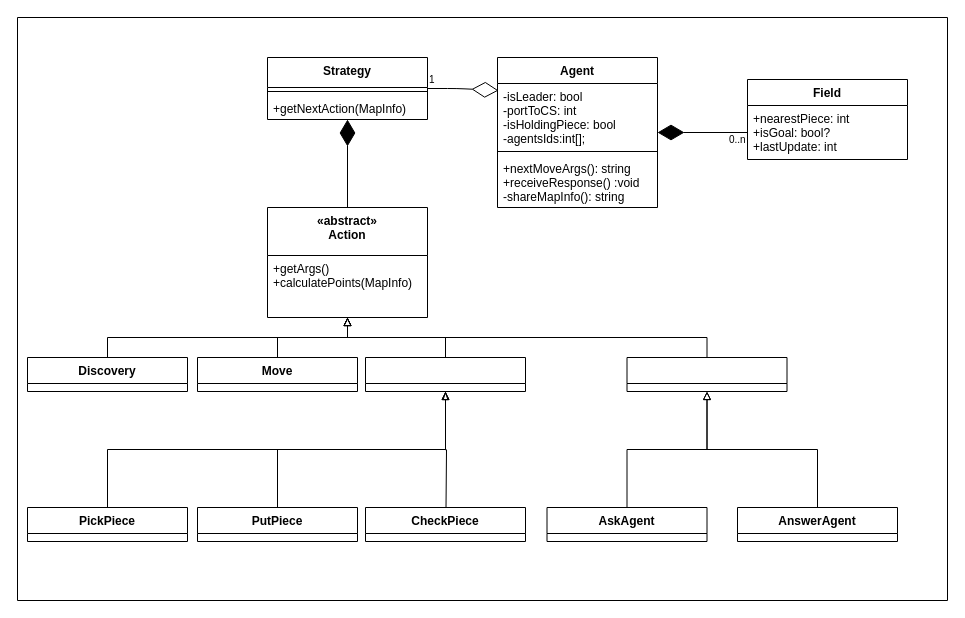
The diagram is 965 pixels wide and 618 high, and some of its shapes have lost their labels. Each missing label, with the centre of its shape:
"Communication" goes at pixel 706 374.
"PieceAction" goes at pixel 445 374.
